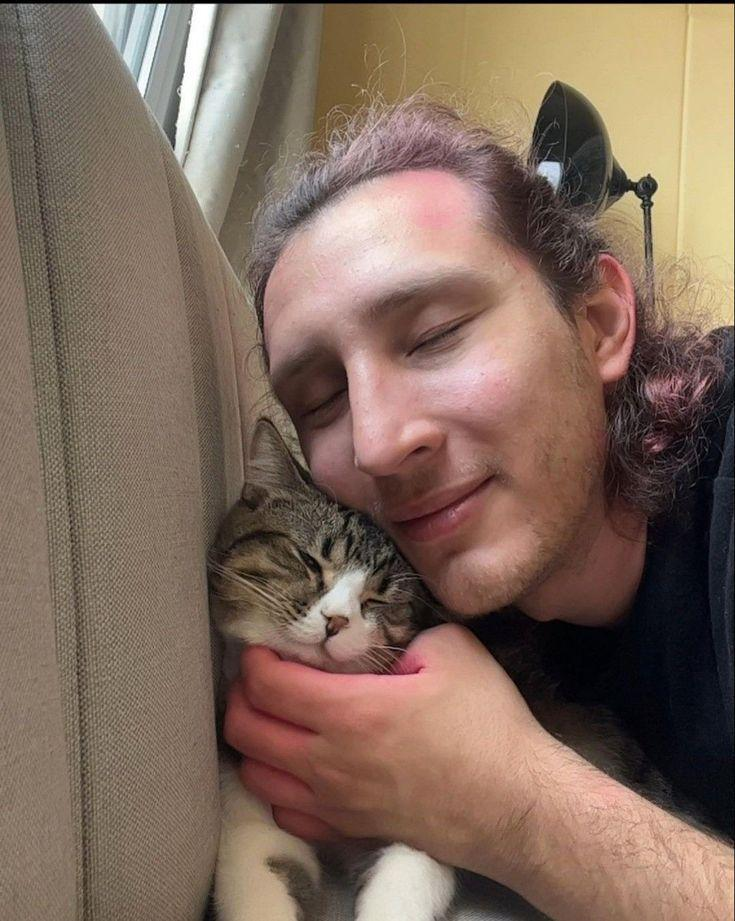kedo: (207, 412, 425, 672)
